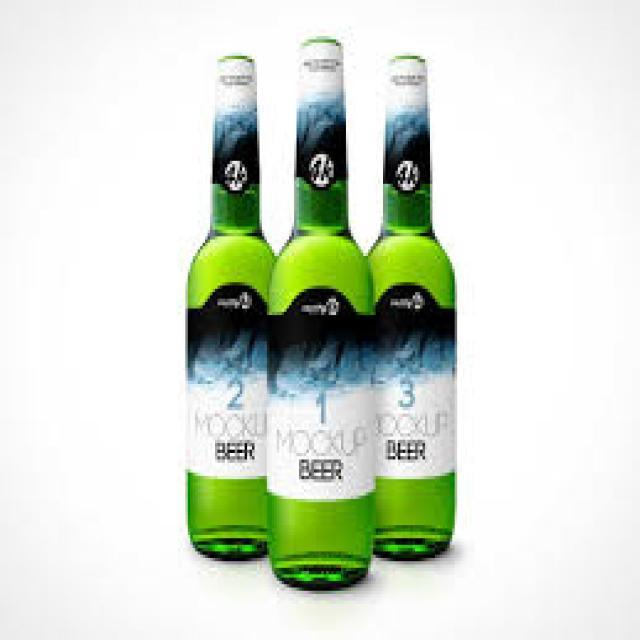Glass-Bottle: (162, 52, 282, 570), (271, 33, 373, 579), (371, 42, 470, 570)
